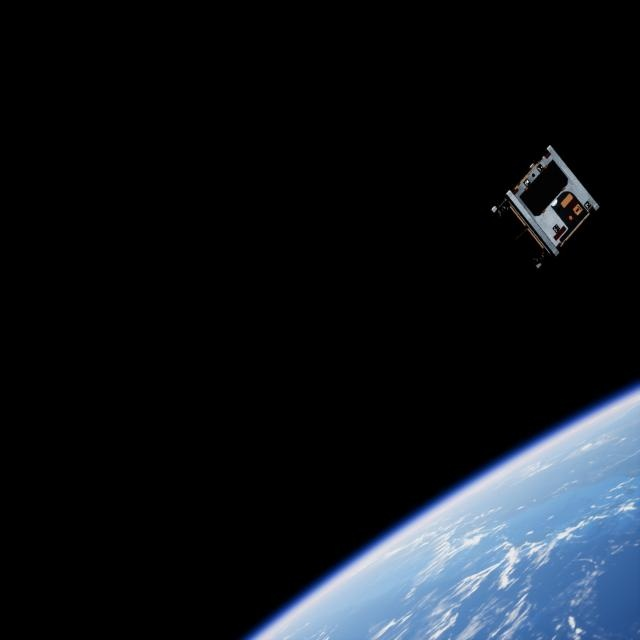medium_debris: (489, 140, 603, 278)
